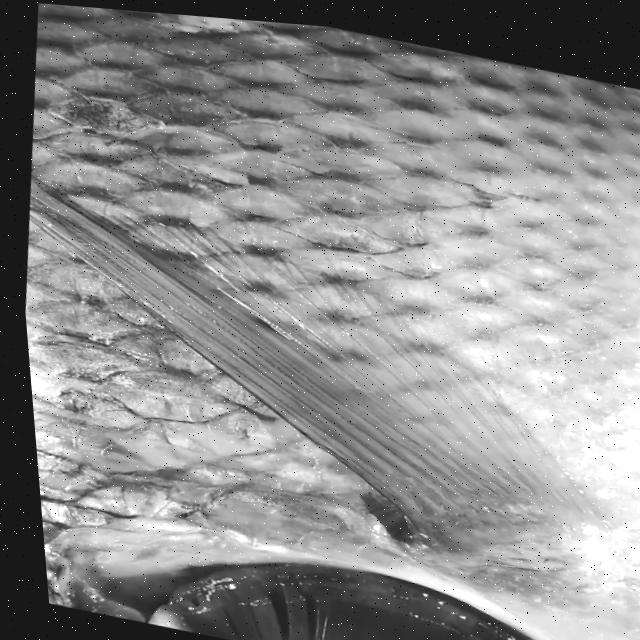Fresh: (0, 0, 640, 558), (63, 507, 569, 640)
